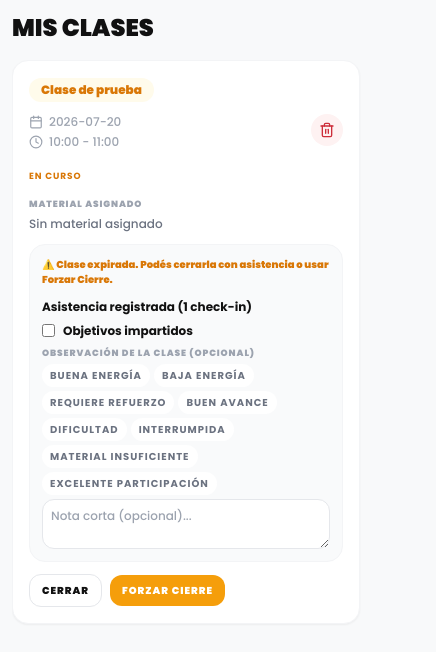
Test case: Integracion: cierre de jornada persiste la asistencia real › con check-ins pero sin objetivos impartidos tampoco cierra
expect the text "Asistencia registrada (1 check-in)" is shown: met, box [42,298,252,314]
Click the button "Cerrar".
click(65, 590)  # box [29,574,102,607]
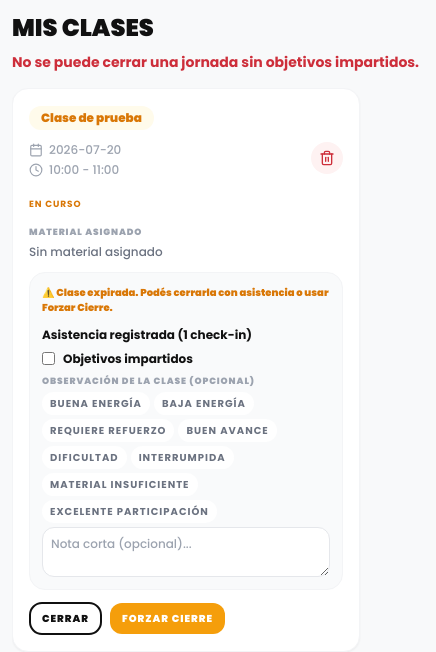
expect the text "No se puede cerrar una jornada sin objetivos impartidos." is shown: met, box [12,52,419,72]
